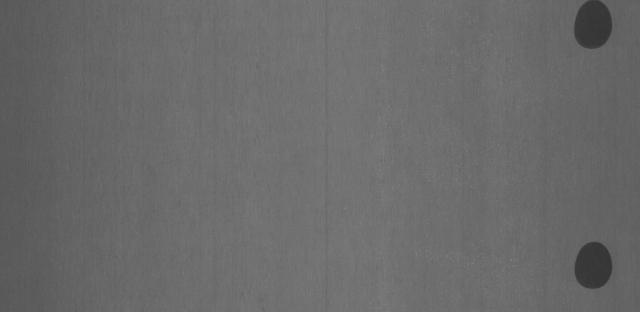oil_spot: (564, 0, 618, 60), (571, 231, 613, 299)
